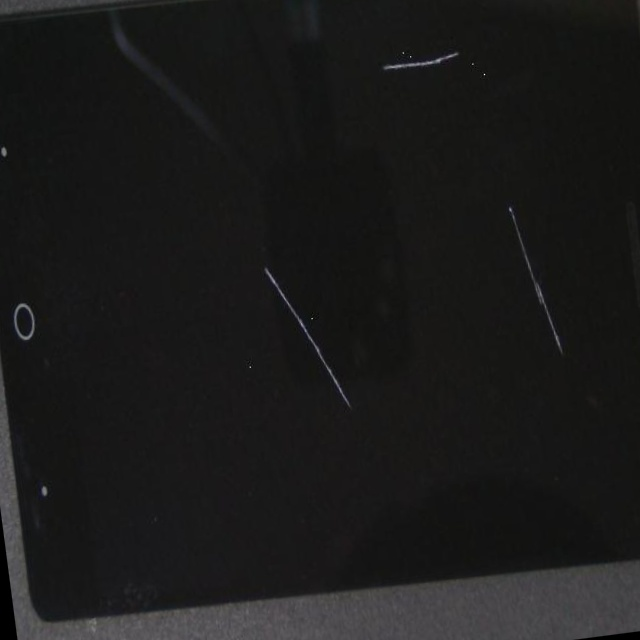scratch: (136, 151, 549, 640), (235, 0, 640, 361), (180, 0, 628, 141)
